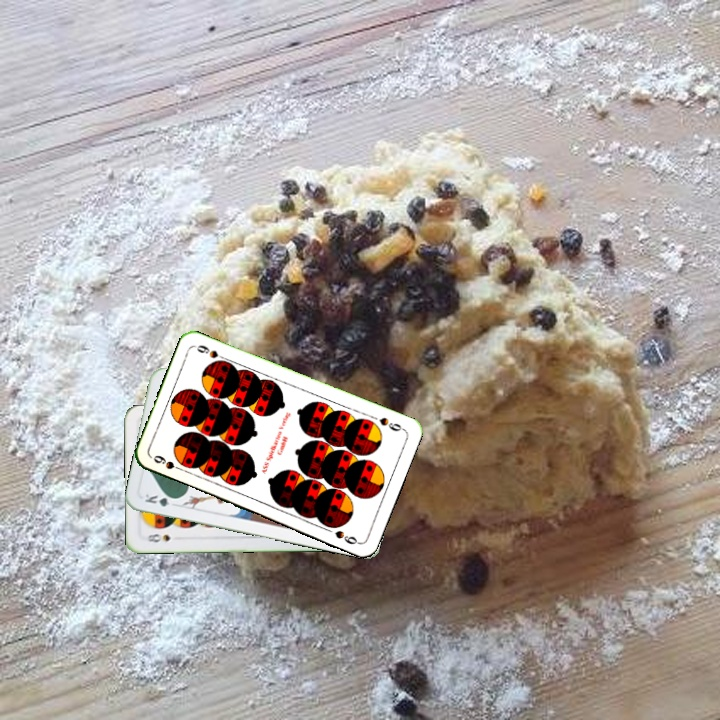GK: (141, 490, 181, 509)
S8: (144, 529, 173, 545)
S9: (149, 451, 187, 474), (375, 413, 407, 434)
